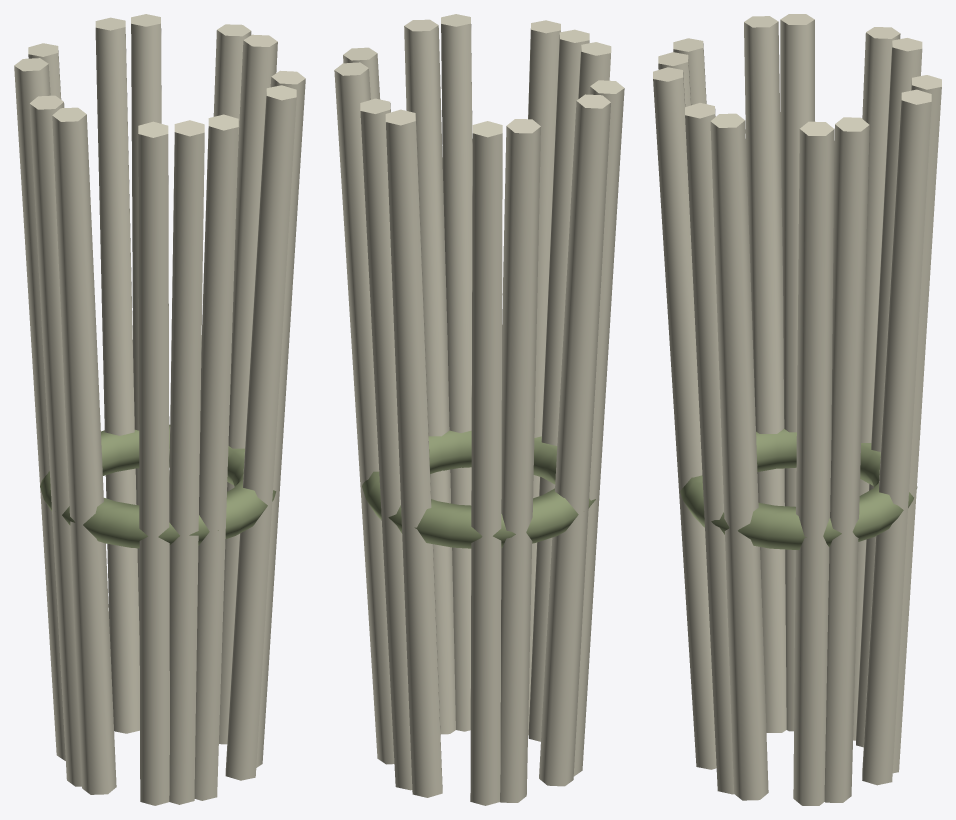
File: primitive-crafting-workshop-fibre-bundle-0e419ed7__21555.glb
3 renders of one model, left to right at view 1: azimuth 30°, elevation 25°; view 2: azimuth 150°, elevation 25°; view 3: azimuth 270°, elevation 25°, orthographic.
Visible parts, largest first — view 1: fibre-bundle; view 2: fibre-bundle; view 3: fibre-bundle.
Boxes of the visible parts, x1,y1,x2,y2 form: fibre-bundle: (14, 14, 305, 805); fibre-bundle: (334, 14, 624, 805); fibre-bundle: (653, 14, 941, 805).
Size of the model in its own units: 0.1332 by 0.3509 by 0.1332.
